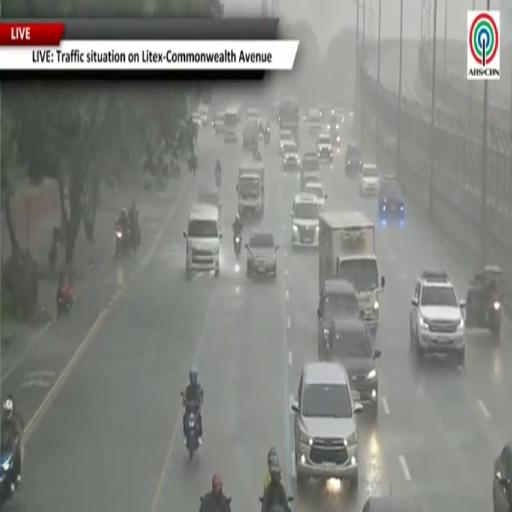car: (292, 362, 362, 491), (322, 316, 380, 418), (410, 270, 465, 366), (317, 279, 359, 358), (183, 204, 222, 276), (291, 194, 320, 247), (246, 232, 278, 278), (493, 443, 511, 511), (378, 175, 404, 219), (362, 496, 417, 511), (197, 187, 221, 220), (301, 152, 320, 189), (304, 182, 327, 209), (360, 164, 380, 195), (346, 144, 363, 175), (282, 142, 300, 171), (316, 134, 333, 163), (327, 115, 340, 152), (305, 109, 321, 134), (279, 130, 295, 154), (212, 111, 224, 134), (331, 107, 345, 126), (327, 114, 340, 132), (198, 104, 209, 125), (247, 108, 260, 124), (318, 105, 330, 122), (192, 111, 202, 126)
motorcycle: (464, 267, 504, 339), (0, 424, 23, 508), (466, 292, 502, 339), (182, 392, 200, 460), (0, 447, 16, 506), (57, 284, 74, 315), (115, 223, 130, 257), (260, 496, 293, 511), (128, 215, 140, 250), (48, 238, 58, 271), (234, 233, 241, 259), (222, 498, 232, 511), (252, 149, 262, 162), (264, 130, 270, 146), (216, 170, 221, 188)
truck: (319, 212, 385, 334), (236, 162, 264, 217), (278, 100, 299, 133), (224, 106, 239, 143), (243, 123, 258, 151)
